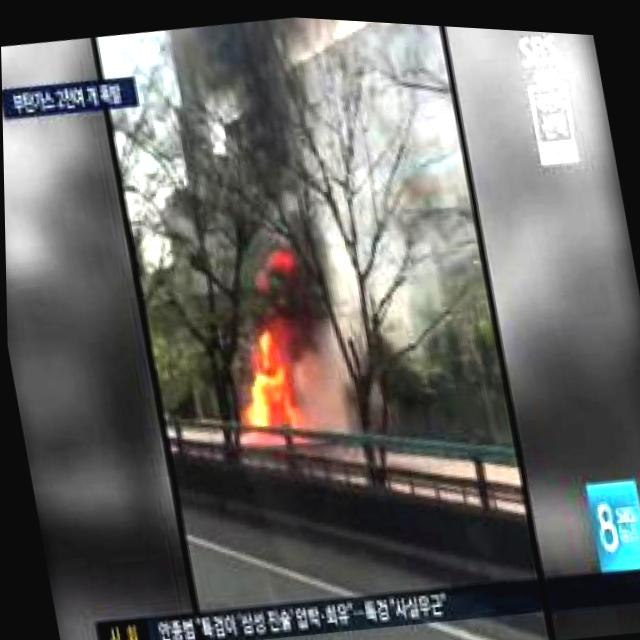helmet: (207, 240, 326, 436)
